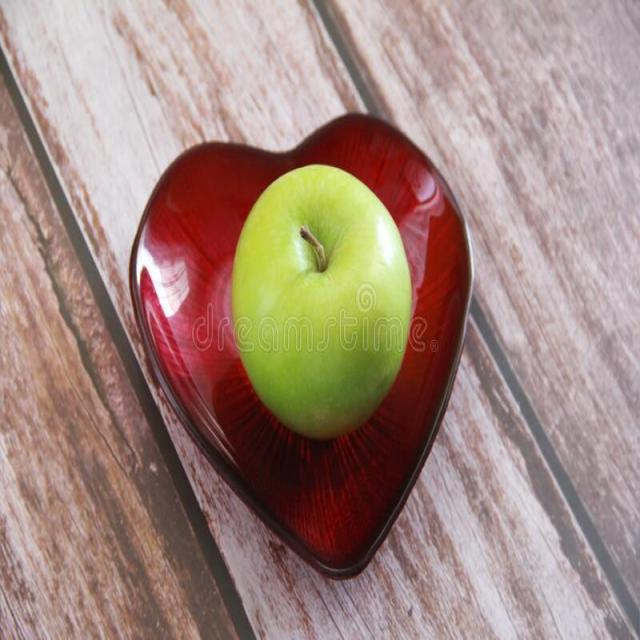Fresh Apple: (225, 165, 427, 445)
